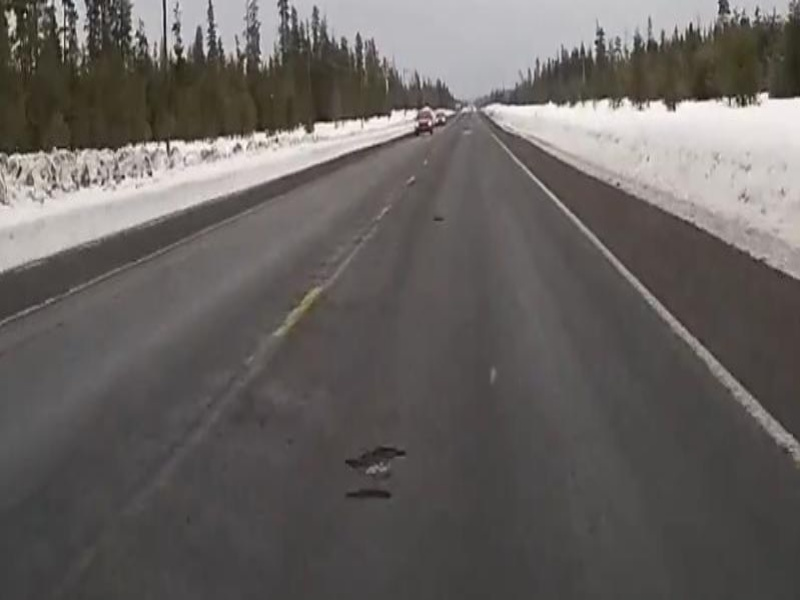pothole: (343, 444, 409, 479)
